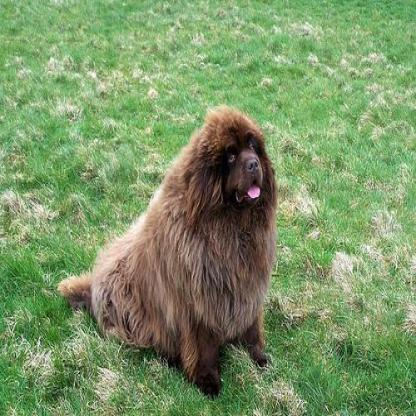Newfoundland: (52, 96, 282, 398)
